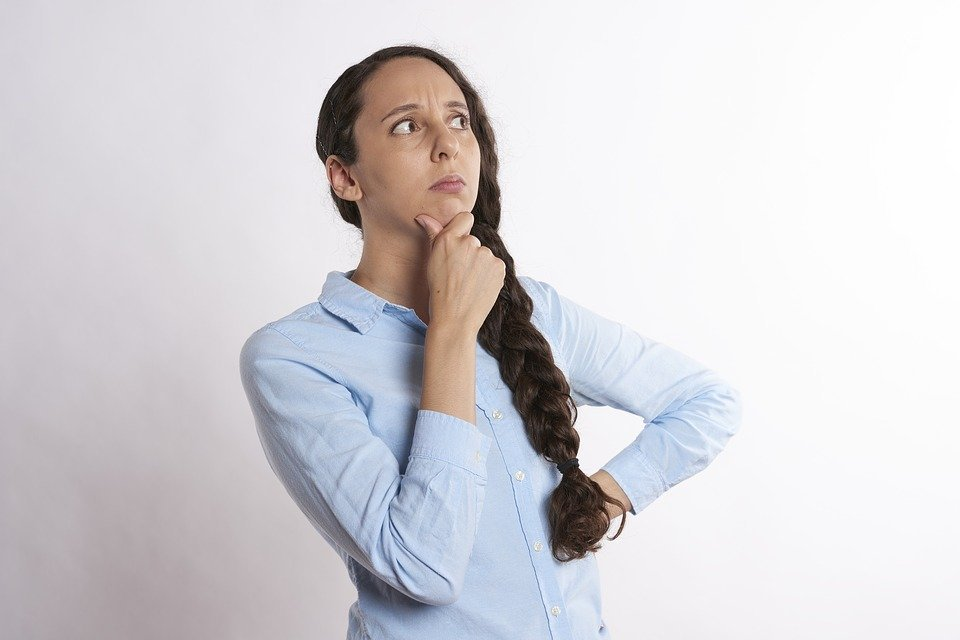noMask: (312, 34, 535, 244)
